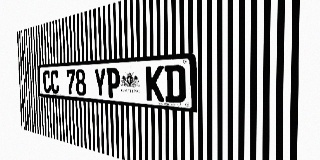7: (65, 69, 76, 95)
8: (75, 69, 86, 96)
C: (50, 70, 59, 94), (43, 70, 51, 93)
D: (164, 65, 186, 103)
K: (145, 65, 164, 102)
P: (106, 67, 120, 98)
Y: (94, 68, 106, 97)
